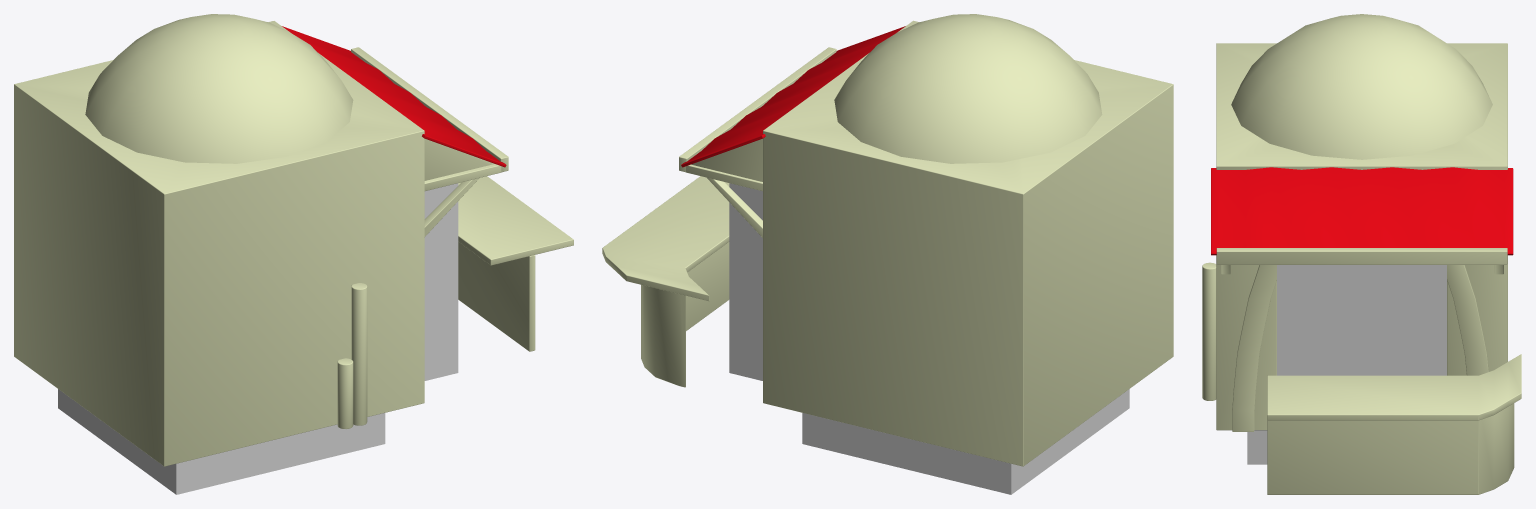
The model's file is Blocky_Market_Stall_12.fbx.
3 renders of one model, left to right at view 1: azimuth 30°, elevation 25°; view 2: azimuth 150°, elevation 25°; view 3: azimuth 270°, elevation 25°, orthographic. The views are drawn at different scales.
Parts seen in each view (by area): view 1: Cube, Cube.002, Cube.001; view 2: Cube, Cube.002, Cube.001; view 3: Cube, Cube.001, Cube.002.
Part boxes in pixels (x1,y1,x2,y2): Cube: (14,14,573,466); Cube.002: (58,389,385,494); Cube.001: (424,183,458,380); Cube: (602,14,1173,466); Cube.002: (802,389,1129,494); Cube.001: (729,183,762,380); Cube: (1202,14,1521,494); Cube.001: (1277,265,1446,375); Cube.002: (1247,430,1267,464).
Size of the model in its own units: 2013 by 1761 by 1318.
